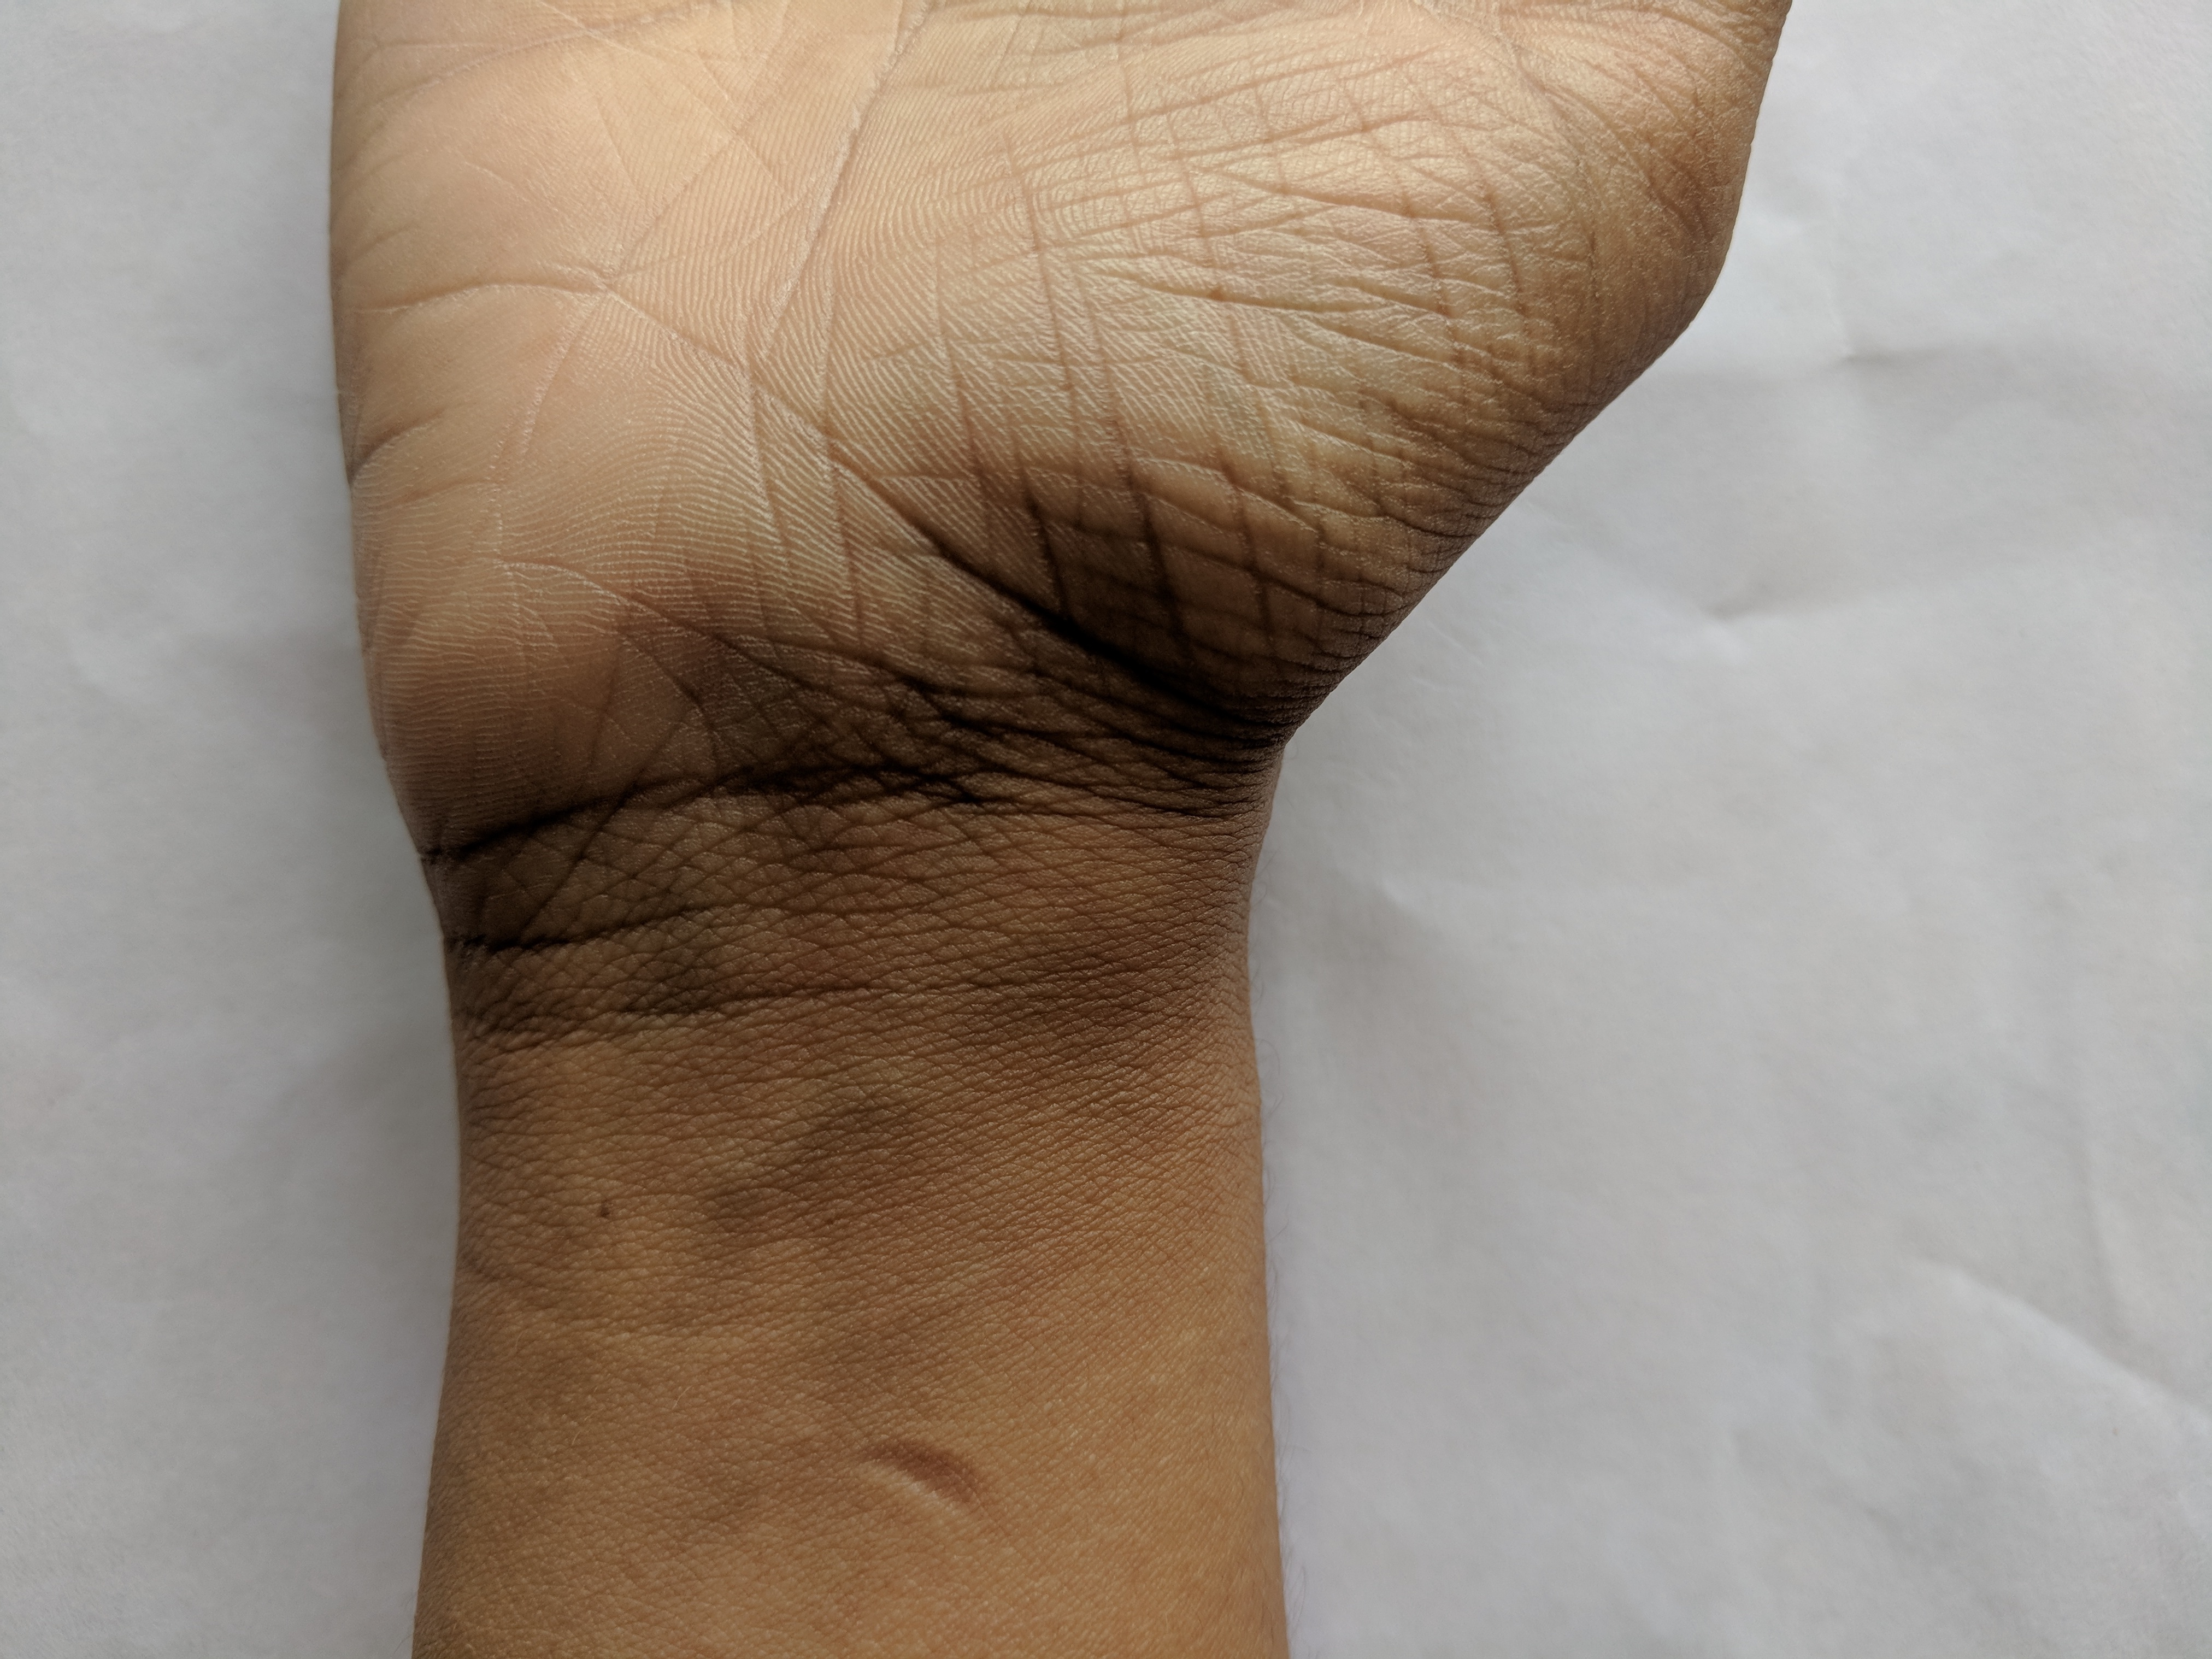righthandwrist: (357, 589, 1433, 1108)
